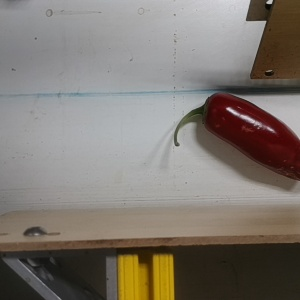Cut Point: (194, 91, 223, 134)
